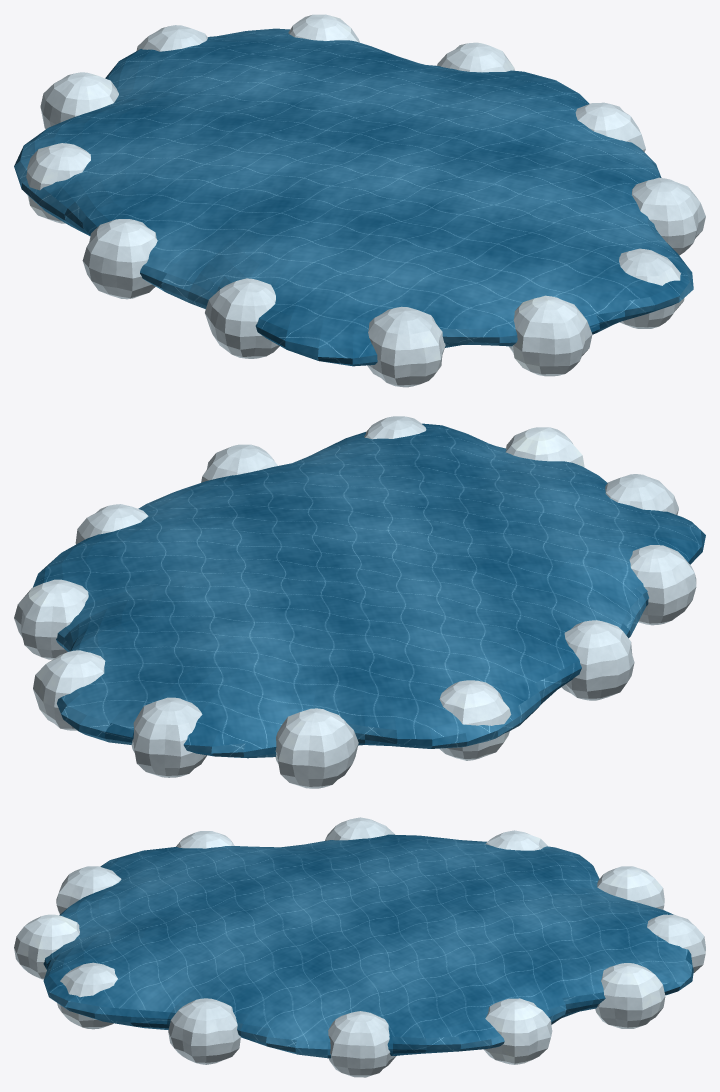
The model's file is BossRoom_IcePlatform.fbx.
The picture shows the model from 3 angles, top to bottom: view 1: azimuth 30°, elevation 25°; view 2: azimuth 150°, elevation 25°; view 3: azimuth 270°, elevation 25°; orthographic projection. The views are drawn at different scales.
Visible parts, largest first — view 1: WO_BossRoom_IcePlatform_LOD0; view 2: WO_BossRoom_IcePlatform_LOD0; view 3: WO_BossRoom_IcePlatform_LOD0.
Boxes of the visible parts, <box> form: WO_BossRoom_IcePlatform_LOD0: <box>14,14,705,387</box>; WO_BossRoom_IcePlatform_LOD0: <box>14,416,705,788</box>; WO_BossRoom_IcePlatform_LOD0: <box>14,817,705,1077</box>.
Size of what is drawn, in the model's own units: 4.56 by 0.6946 by 6.
